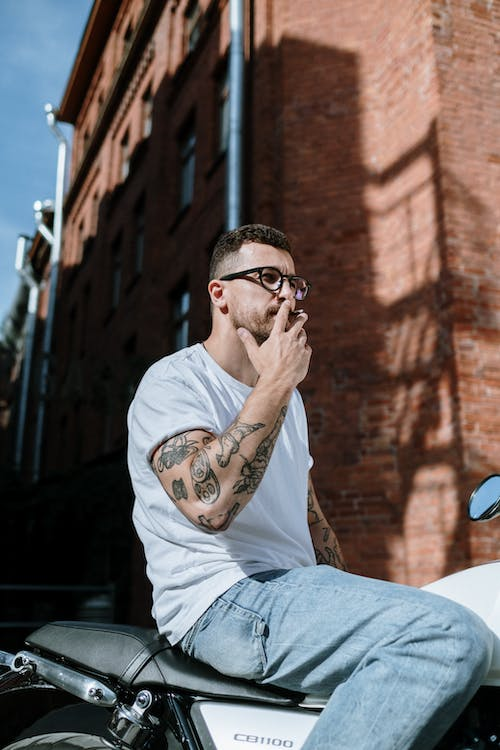cigarette: (288, 306, 308, 320)
